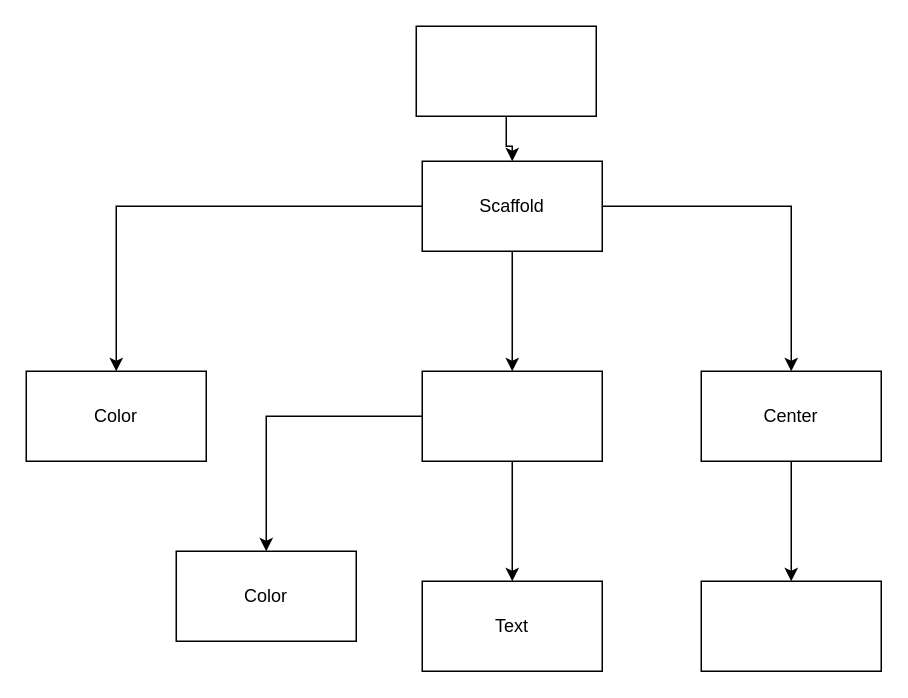
Some shapes in this 908 by 698 pixel diagram are drawn without their labels. Each missing label, with the centre of its shape:
AppBar: the point at 511,415
Image: the point at 790,625
Material App: the point at 505,70
